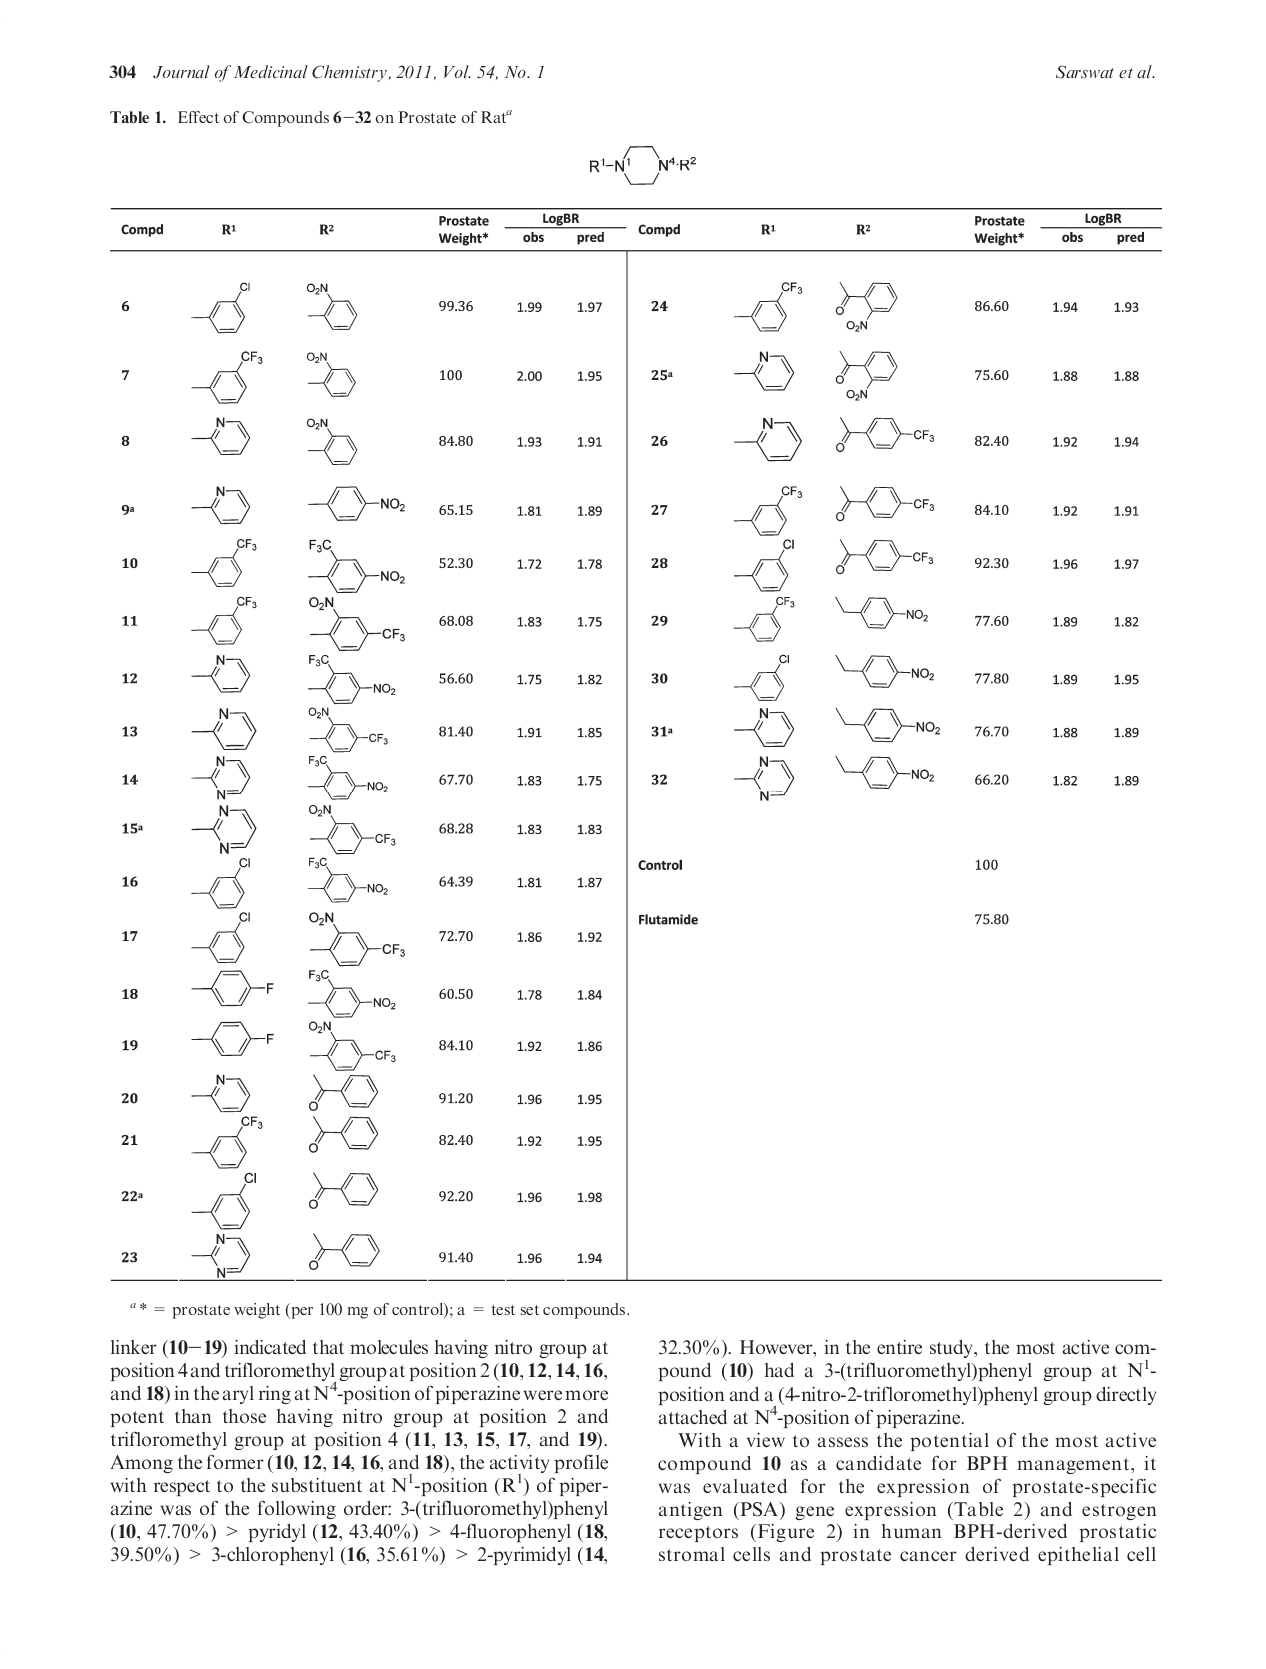exist_molecular: (302, 906, 406, 969), (303, 533, 408, 596), (301, 594, 410, 653), (301, 1015, 398, 1073), (577, 141, 702, 186), (299, 650, 398, 706), (189, 1005, 282, 1063), (831, 747, 938, 797), (832, 702, 942, 750), (828, 648, 938, 694), (832, 477, 935, 527), (303, 802, 398, 855), (830, 414, 939, 459), (831, 535, 936, 581), (189, 344, 265, 408), (307, 481, 411, 528), (185, 271, 258, 336), (302, 969, 400, 1017), (190, 1170, 265, 1231), (303, 1168, 384, 1222), (302, 1221, 383, 1275), (305, 854, 390, 906), (727, 278, 805, 335), (185, 1114, 262, 1172), (729, 481, 805, 539), (302, 751, 390, 801), (188, 852, 261, 911), (301, 705, 390, 753), (831, 343, 902, 403), (189, 962, 275, 1009), (189, 590, 261, 648), (189, 532, 258, 590), (828, 277, 899, 334), (731, 537, 799, 594), (297, 1112, 382, 1157), (189, 801, 261, 854), (731, 411, 803, 464), (832, 590, 928, 630), (301, 344, 367, 402), (188, 910, 257, 964), (301, 278, 364, 336), (188, 702, 263, 751), (299, 1071, 382, 1114), (729, 344, 797, 396), (729, 650, 795, 702), (301, 414, 363, 468), (731, 594, 801, 644), (188, 1230, 253, 1282), (730, 753, 797, 802), (185, 1071, 259, 1114), (729, 702, 797, 750), (188, 481, 253, 531), (186, 648, 254, 694), (189, 751, 251, 801), (191, 412, 257, 459)
